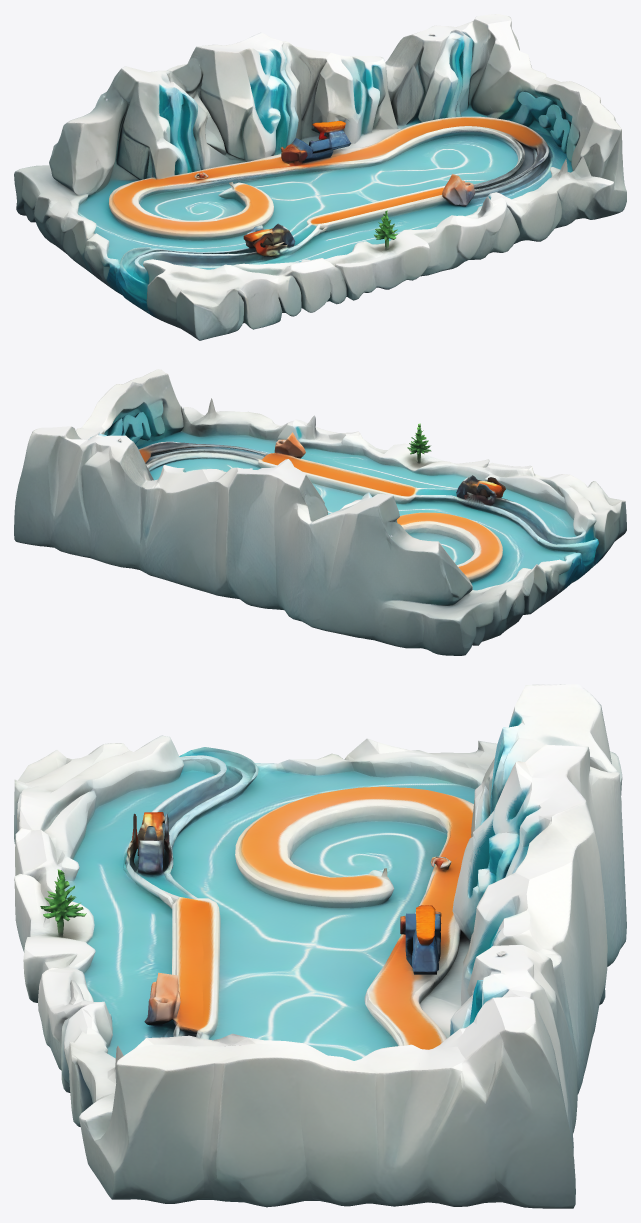
3 views of the same model, one above another, from view 1: azimuth 30°, elevation 25°; view 2: azimuth 150°, elevation 25°; view 3: azimuth 270°, elevation 25° (orthographic). The views are drawn at different scales.
Parts seen in each view (by area): view 1: model; view 2: model; view 3: model.
Part boxes in pixels (x1,y1,x2,y2): model: (14, 14, 626, 340); model: (14, 369, 626, 655); model: (14, 684, 626, 1208).
Bounding box in the file's own units: 1.9 × 0.5199 × 1.23.
1 material, 1 textured.
